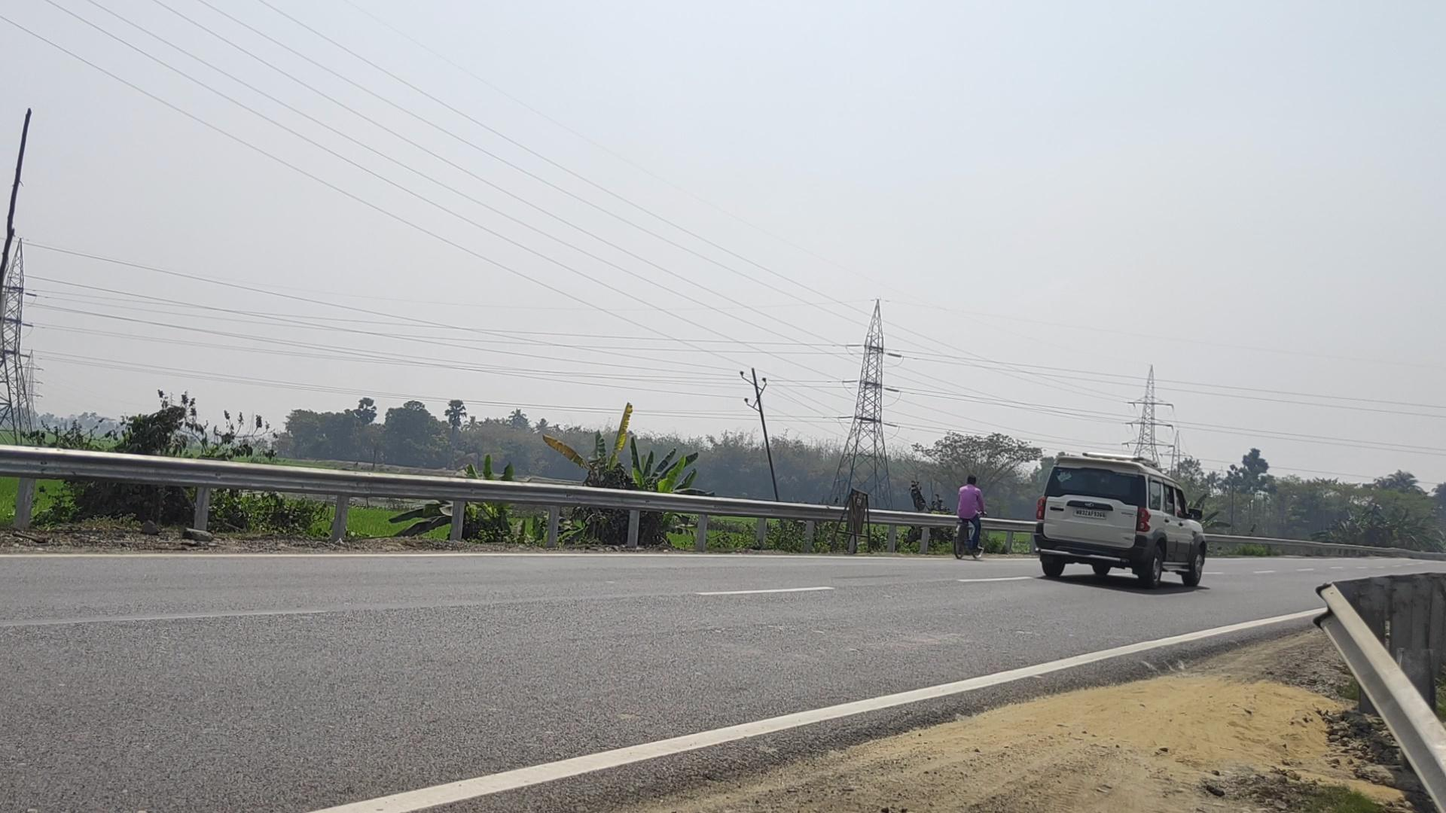bike: (953, 474, 987, 559)
car: (1034, 452, 1207, 590)
